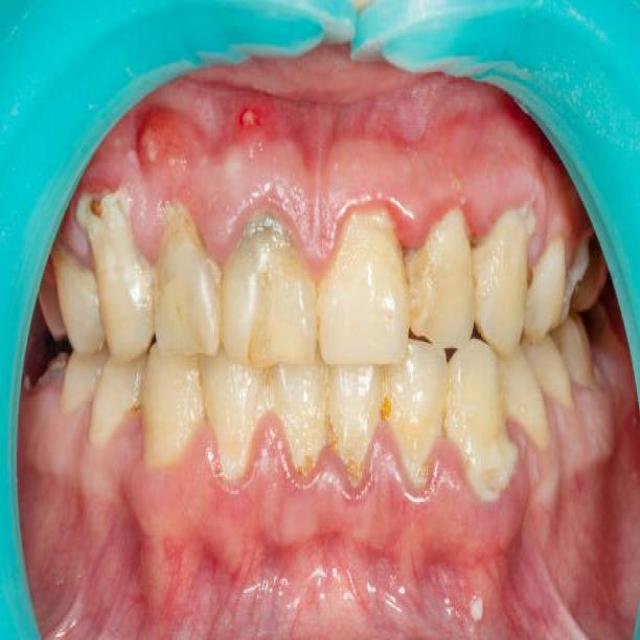Gingivitis: (160, 516, 546, 635), (222, 92, 456, 158), (51, 481, 152, 628), (136, 110, 208, 174)
